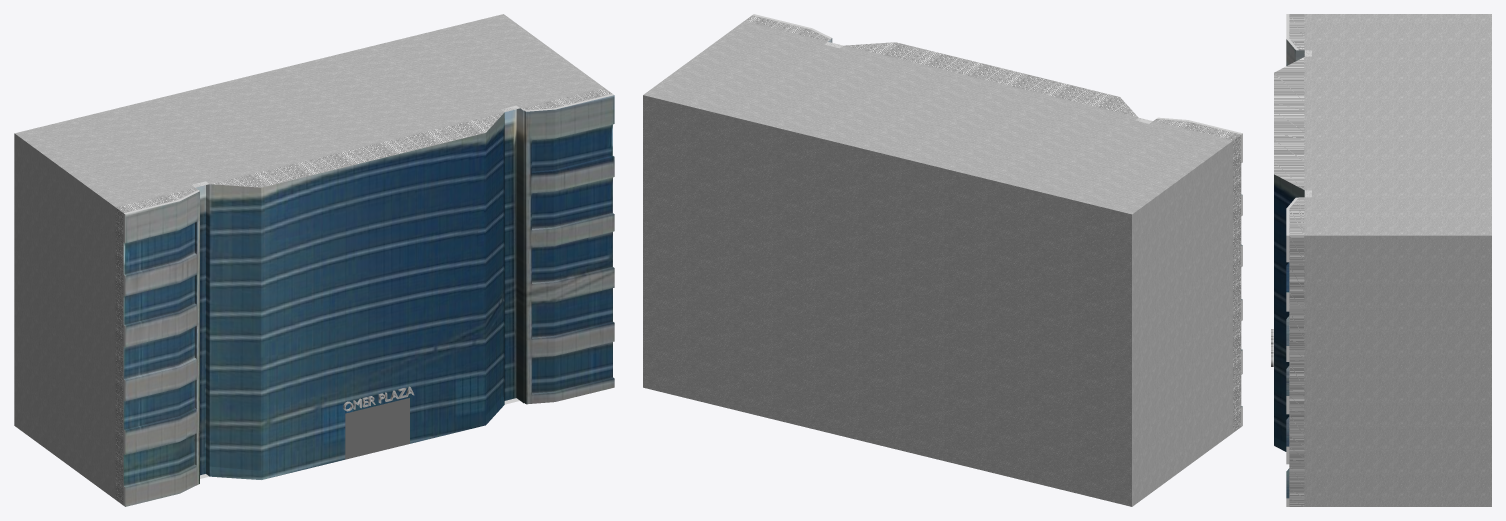
File: OmerPlaza.fbx
3 views of the same model, side by side, from view 1: azimuth 30°, elevation 25°; view 2: azimuth 150°, elevation 25°; view 3: azimuth 270°, elevation 25° (orthographic). The views are drawn at different scales.
Visible parts, largest first — view 1: Cube; view 2: Cube; view 3: Cube.
Boxes of the visible parts, x1=… form: Cube: x1=14, y1=14, x2=614, y2=506; Cube: x1=643, y1=14, x2=1242, y2=506; Cube: x1=1274, y1=14, x2=1491, y2=506.
Size of the model in its own units: 14000 by 8000 by 5902.
Materials: 5 (2 with a texture image).
